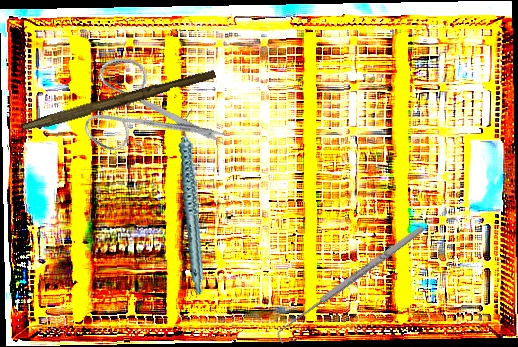Handpiece: (155, 107, 231, 296)
Hook Surgical: (271, 222, 431, 345)
Iris Scissors: (65, 29, 234, 190)
Scalpel Handle: (20, 64, 217, 139)
